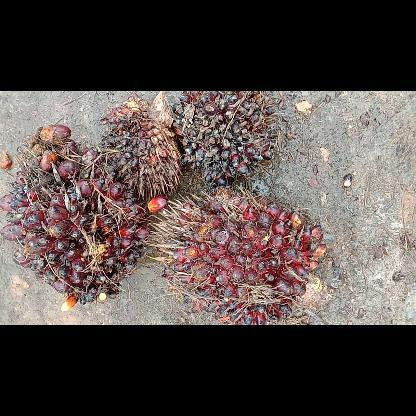Kurang masak: (0, 124, 149, 310)
TBS abnormal: (172, 90, 280, 186), (101, 91, 182, 197)
TBS masak: (145, 188, 332, 324)
